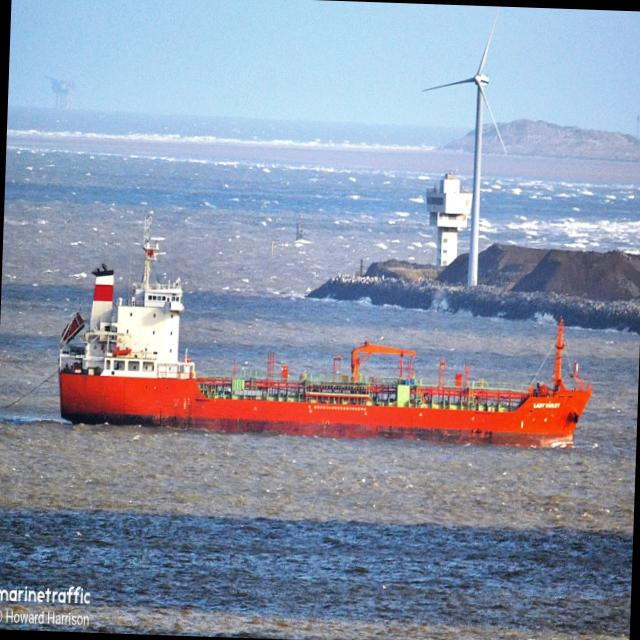Tanker: (58, 217, 592, 447)
